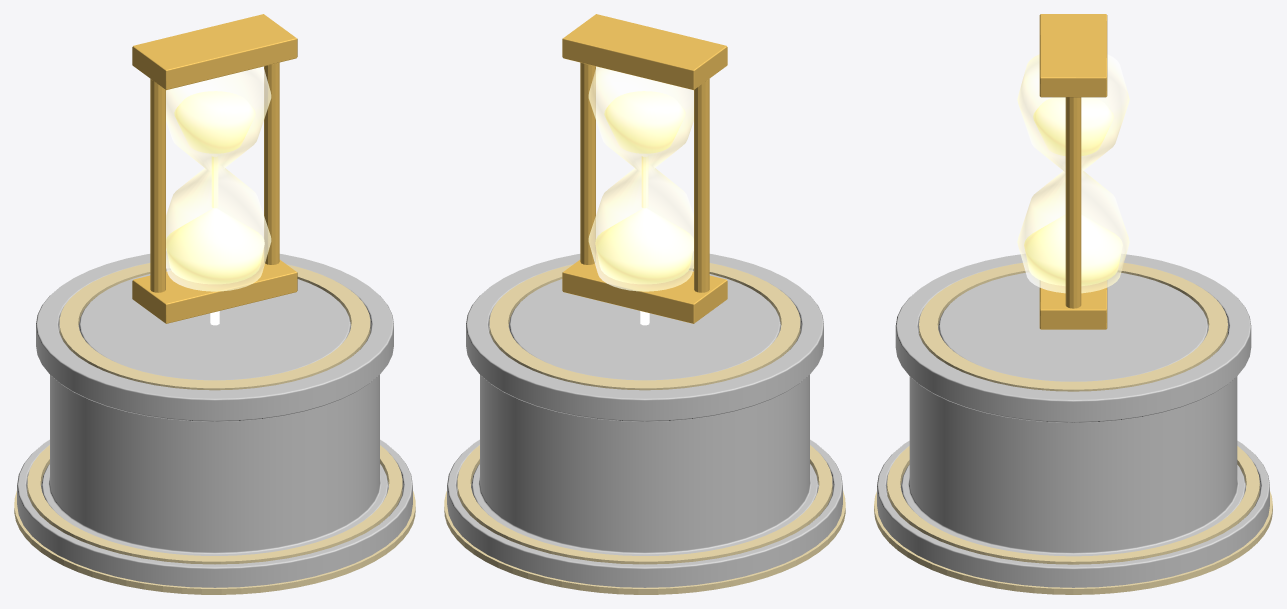
Rendered from Lobby_PED_Time.fbx.
3 views of the same model, side by side, from view 1: azimuth 30°, elevation 25°; view 2: azimuth 150°, elevation 25°; view 3: azimuth 270°, elevation 25° (orthographic).
Visible parts, largest first — view 1: PedestalMarble__Time, Glyph_TimeGold__Time, Glyph_TimeGlass__TimeGlass, PedNeon_Time__Time_TopNeon, Glyph_TimeSand__TimeSandLow, PedNeon_Time__Time_BaseNeon, Glyph_TimeSand__TimeSandHigh, PedNeon_Time__Time_BaseNeonEdge; view 2: PedestalMarble__Time, Glyph_TimeGold__Time, Glyph_TimeGlass__TimeGlass, PedNeon_Time__Time_TopNeon, Glyph_TimeSand__TimeSandLow, PedNeon_Time__Time_BaseNeon, Glyph_TimeSand__TimeSandHigh, PedNeon_Time__Time_BaseNeonEdge; view 3: PedestalMarble__Time, Glyph_TimeGlass__TimeGlass, Glyph_TimeGold__Time, PedNeon_Time__Time_TopNeon, PedNeon_Time__Time_BaseNeon, Glyph_TimeSand__TimeSandLow, PedNeon_Time__Time_BaseNeonEdge, Glyph_TimeSand__TimeSandHigh.
Part boxes in pixels (box(x1,y1,x2,y2)): PedestalMarble__Time: box(17, 251, 412, 587); Glyph_TimeGold__Time: box(132, 14, 297, 323); Glyph_TimeGlass__TimeGlass: box(166, 66, 271, 291); PedNeon_Time__Time_TopNeon: box(59, 260, 370, 390); Glyph_TimeSand__TimeSandLow: box(166, 208, 264, 284); PedNeon_Time__Time_BaseNeon: box(27, 445, 402, 564); Glyph_TimeSand__TimeSandHigh: box(174, 91, 255, 153); PedNeon_Time__Time_BaseNeonEdge: box(14, 491, 415, 594); PedestalMarble__Time: box(447, 251, 842, 587); Glyph_TimeGold__Time: box(562, 14, 727, 323); Glyph_TimeGlass__TimeGlass: box(588, 66, 693, 291); PedNeon_Time__Time_TopNeon: box(489, 260, 800, 390); Glyph_TimeSand__TimeSandLow: box(595, 208, 693, 284); PedNeon_Time__Time_BaseNeon: box(457, 445, 832, 564); Glyph_TimeSand__TimeSandHigh: box(604, 91, 685, 153); PedNeon_Time__Time_BaseNeonEdge: box(444, 491, 845, 594); PedestalMarble__Time: box(877, 254, 1269, 587); Glyph_TimeGlass__TimeGlass: box(1017, 54, 1129, 293); Glyph_TimeGold__Time: box(1039, 14, 1107, 329); PedNeon_Time__Time_TopNeon: box(919, 262, 1227, 391); PedNeon_Time__Time_BaseNeon: box(887, 446, 1259, 564); Glyph_TimeSand__TimeSandLow: box(1024, 214, 1122, 285); PedNeon_Time__Time_BaseNeonEdge: box(874, 491, 1272, 594); Glyph_TimeSand__TimeSandHigh: box(1033, 97, 1113, 155).
Size of the model in its own units: 4.26 by 5.5 by 4.26.
